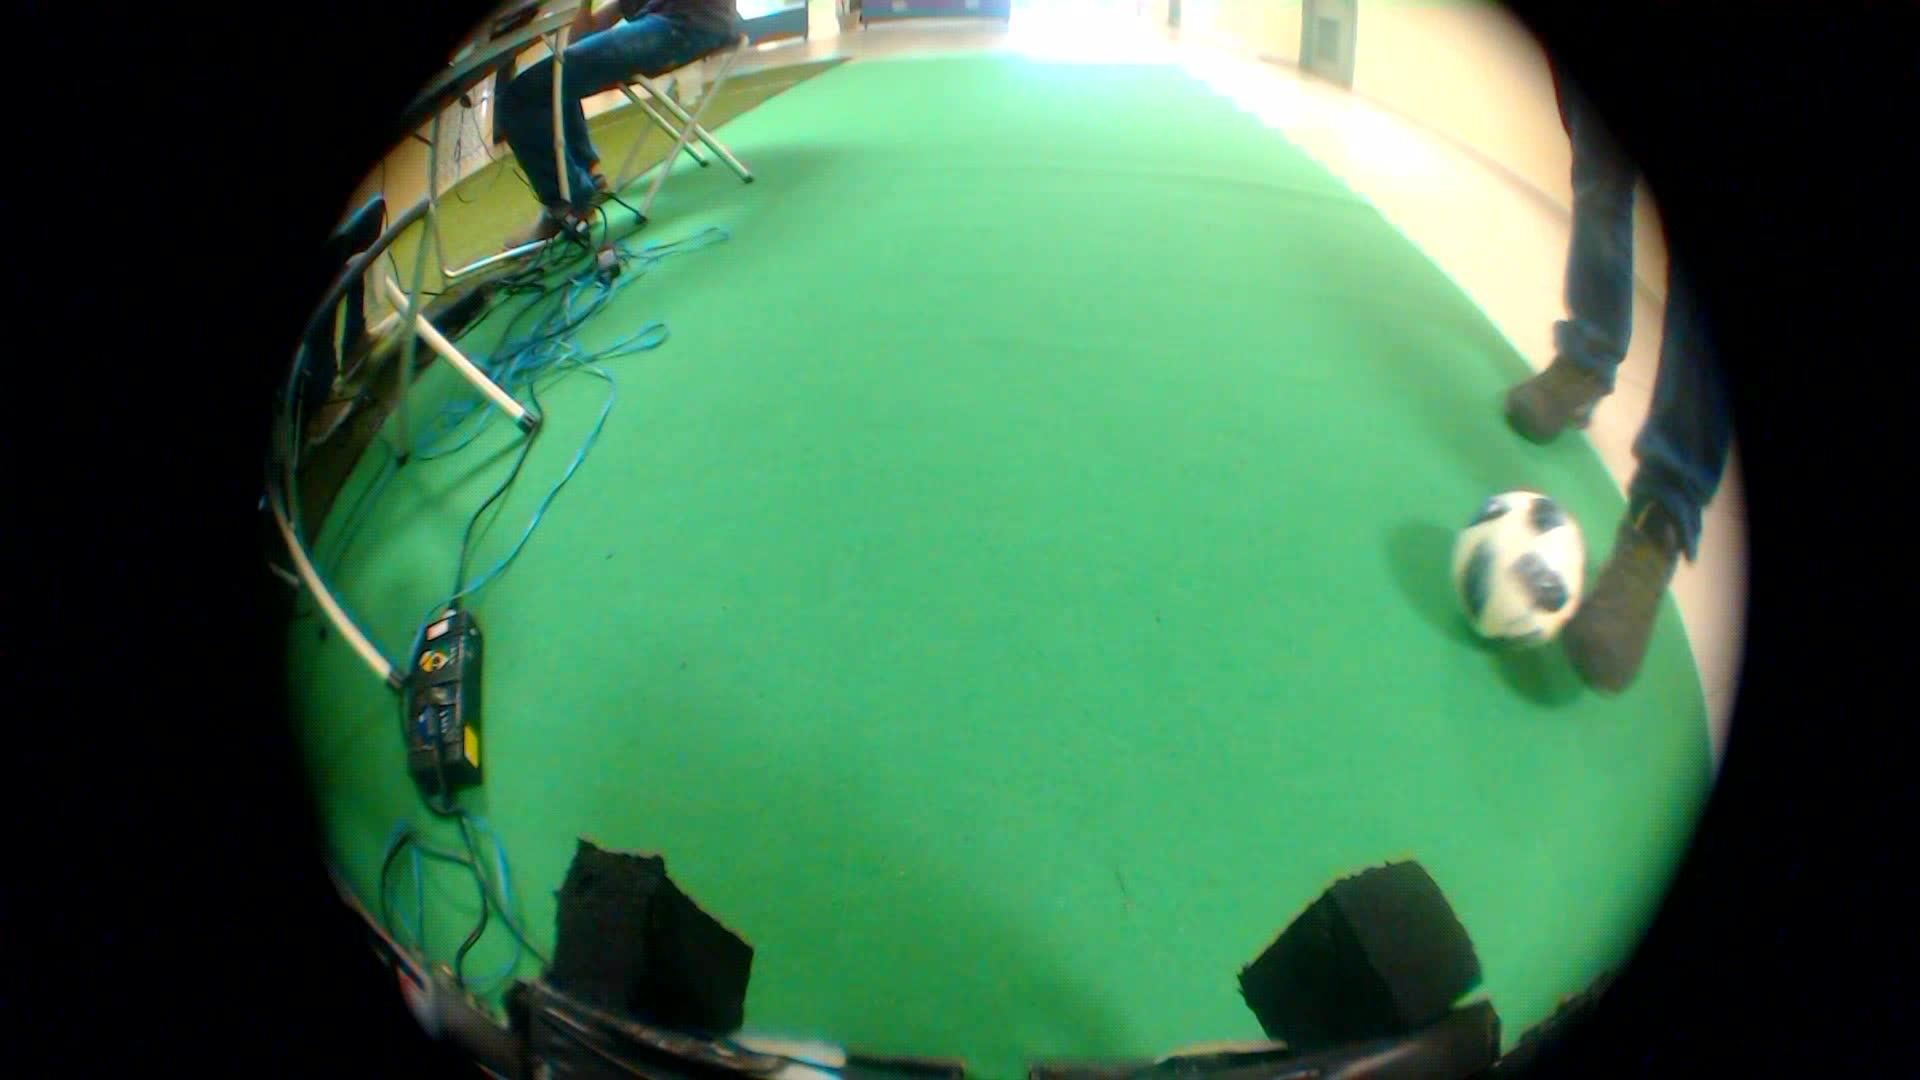ball: (1423, 473, 1621, 667)
